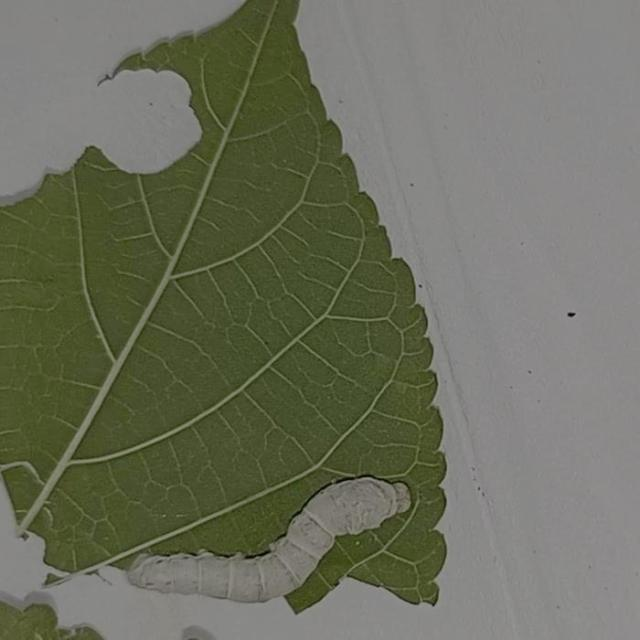Healthy: (116, 472, 420, 608)
